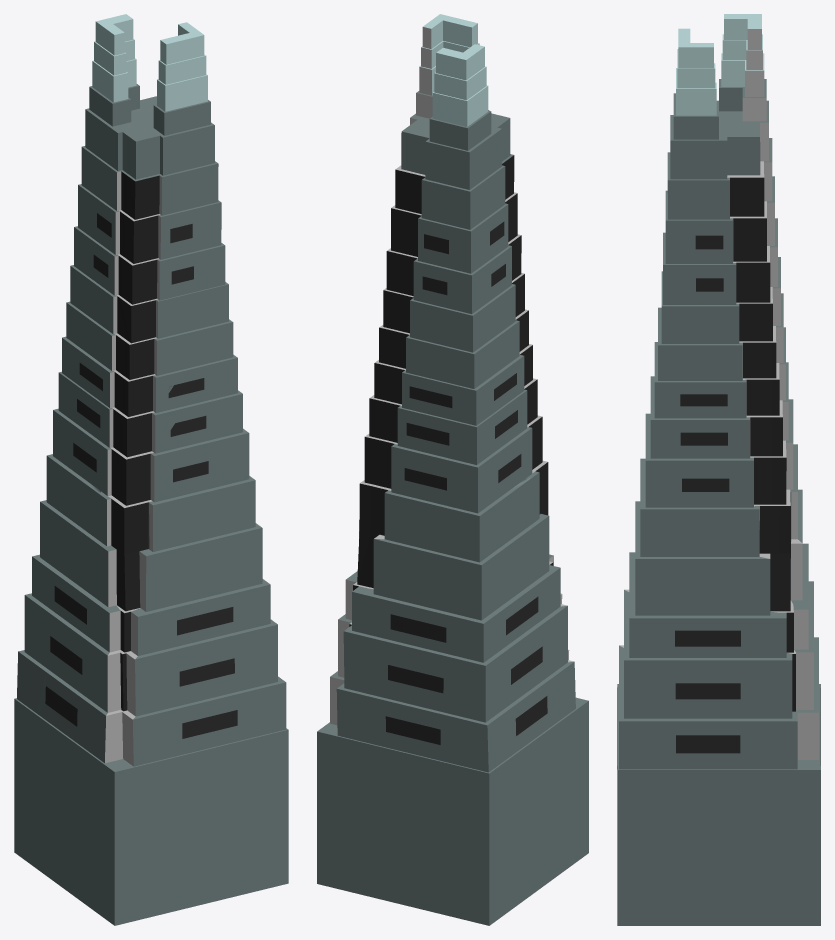
File: 롯데타워.fbx
The picture shows the model from 3 angles, left to right: view 1: azimuth 30°, elevation 25°; view 2: azimuth 150°, elevation 25°; view 3: azimuth 270°, elevation 25°; orthographic projection. The views are drawn at different scales.
Parts seen in each view (by area): view 1: Box002; view 2: Box002; view 3: Box002.
Part boxes in pixels (x1,y1,x2,y2): Box002: (14,14,288,925); Box002: (317,14,588,925); Box002: (617,14,820,925).
Bounding box in the file's own units: 19.5 × 90.01 × 19.51.
